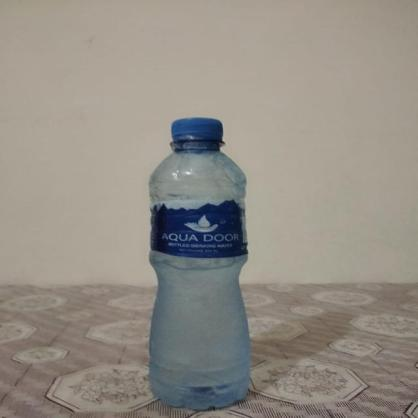bottle: (148, 118, 252, 411)
cap: (170, 117, 224, 141)
label: (149, 197, 249, 258)
